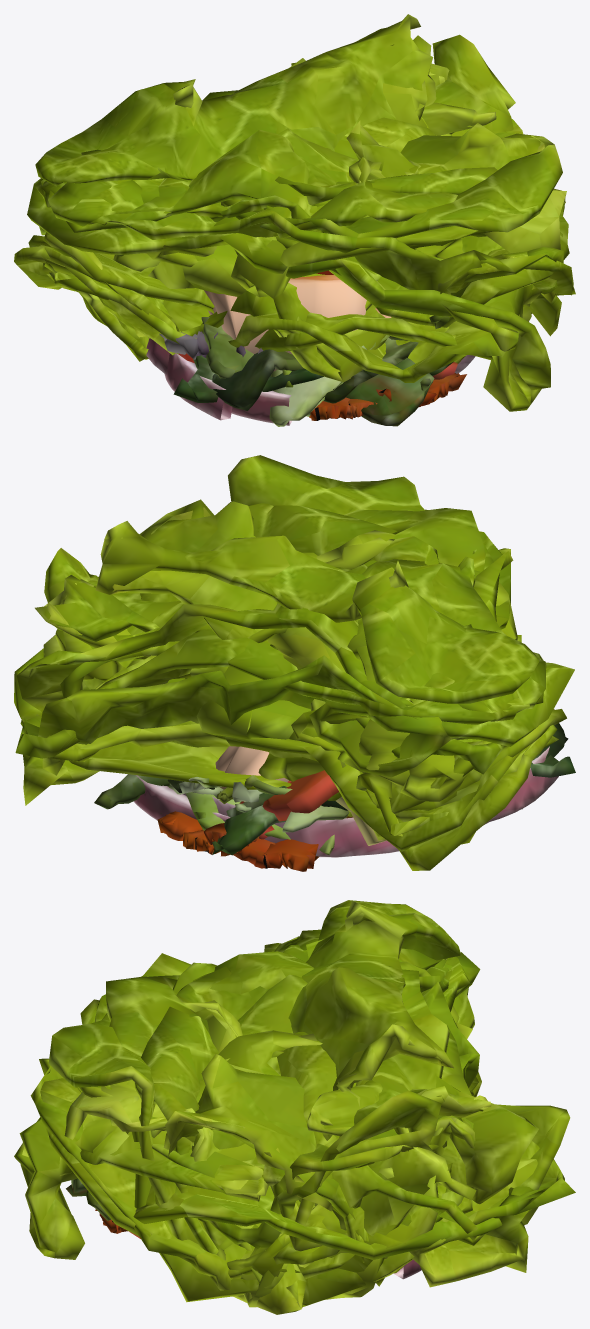
Rendered from kit.glb.
3 renders of one model, top to bottom at view 1: azimuth 30°, elevation 25°; view 2: azimuth 150°, elevation 25°; view 3: azimuth 270°, elevation 25°, orthographic. The views are drawn at different scales.
Visible parts, largest first — view 1: lettuce-4, lettuce-1, lettuce-8, lettuce-5, lettuce-2, salmon-2.001, lettuce-7, spinach-1, spinach-0, iceberg-0, spinach-2, spinach-3 (+10 smaller); view 2: lettuce-4, lettuce-5, lettuce-8, lettuce-2, lettuce-1, lettuce-0, red-onion-2, lettuce-7, lettuce-3, bell-pepper-2, spinach-1, spinach-0 (+10 smaller); view 3: lettuce-5, lettuce-4, lettuce-2, lettuce-1, lettuce-8, lettuce-0, lettuce-7, lettuce-3.
Part boxes in pixels (x1=…): lettuce-4: x1=35, y1=14, x2=497, y2=206; lettuce-1: x1=40, y1=117, x2=562, y2=382; lettuce-8: x1=14, y1=62, x2=565, y2=411; lettuce-5: x1=28, y1=123, x2=575, y2=360; lettuce-2: x1=43, y1=34, x2=569, y2=327; salmon-2.001: x1=204, y1=275, x2=366, y2=371; lettuce-7: x1=41, y1=102, x2=531, y2=335; spinach-1: x1=346, y1=350, x2=453, y2=426; spinach-0: x1=212, y1=349, x2=304, y2=410; iceberg-0: x1=269, y1=335, x2=389, y2=426; spinach-2: x1=173, y1=355, x2=323, y2=402; spinach-3: x1=201, y1=317, x2=253, y2=378; lettuce-4: x1=43, y1=503, x2=539, y2=814; lettuce-5: x1=15, y1=499, x2=554, y2=851; lettuce-8: x1=20, y1=548, x2=574, y2=870; lettuce-2: x1=16, y1=508, x2=566, y2=810; lettuce-1: x1=14, y1=455, x2=557, y2=810; lettuce-0: x1=35, y1=575, x2=469, y2=801; red-onion-2: x1=183, y1=793, x2=497, y2=857; lettuce-7: x1=55, y1=556, x2=518, y2=721; lettuce-3: x1=355, y1=560, x2=504, y2=840; bell-pepper-2: x1=262, y1=770, x2=338, y2=821; spinach-1: x1=212, y1=802, x2=285, y2=855; spinach-0: x1=94, y1=723, x2=568, y2=809; lettuce-5: x1=14, y1=936, x2=575, y2=1314; lettuce-4: x1=134, y1=900, x2=460, y2=1307; lettuce-2: x1=64, y1=942, x2=538, y2=1267; lettuce-1: x1=48, y1=929, x2=538, y2=1302; lettuce-8: x1=19, y1=943, x2=570, y2=1259; lettuce-0: x1=151, y1=1077, x2=491, y2=1306; lettuce-7: x1=172, y1=962, x2=475, y2=1256; lettuce-3: x1=245, y1=1156, x2=463, y2=1286.
Bounding box in the file's own units: 0.3485 × 0.1862 × 0.3585.
Materials: 9 (9 with a texture image).
